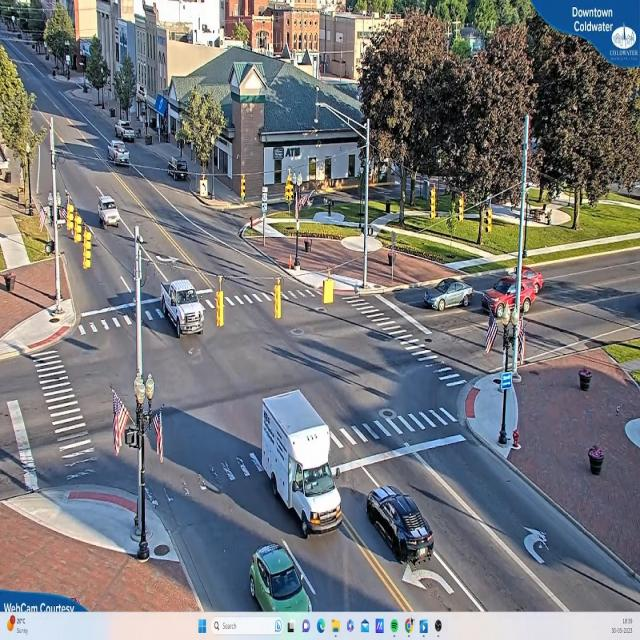car: (367, 484, 434, 572), (248, 542, 310, 609), (160, 277, 208, 339), (481, 272, 535, 317), (423, 277, 470, 310), (510, 261, 545, 289), (99, 197, 121, 229), (164, 157, 190, 180)
truck: (258, 390, 343, 540)
